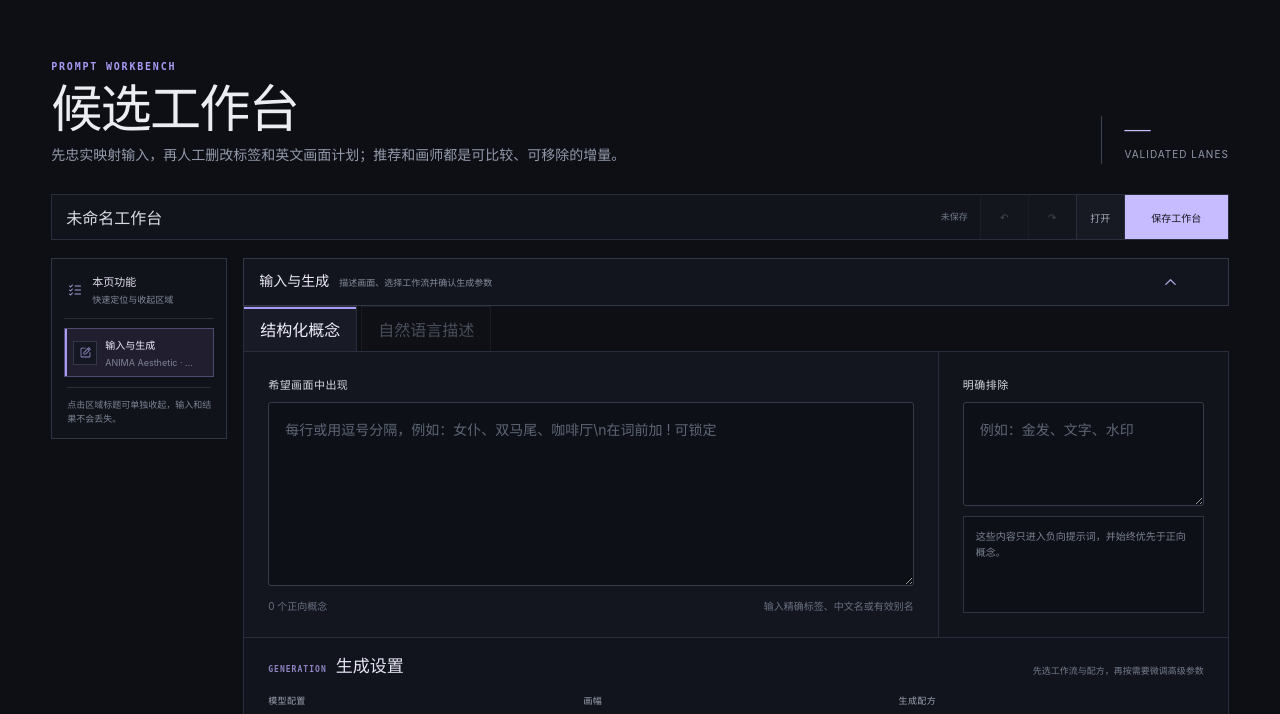
saves and restores a revisioned workspace
The image size is (1280, 714).
Replace the text in the field named "工作台名称" with "女仆测试" at (490, 217), box x1=52 y1=195 x2=929 y2=239
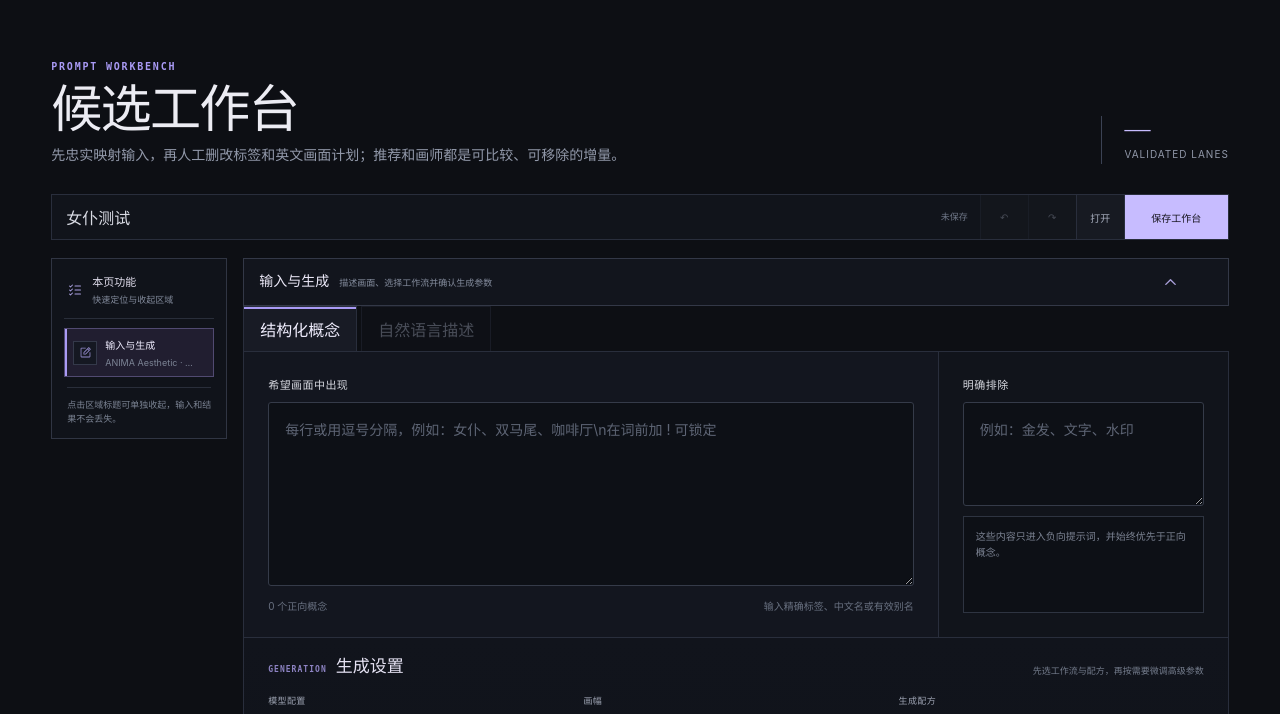
Type "女仆，双马尾" into the text box labelled "希望画面中出现" at (591, 494), box x1=268 y1=402 x2=914 y2=586
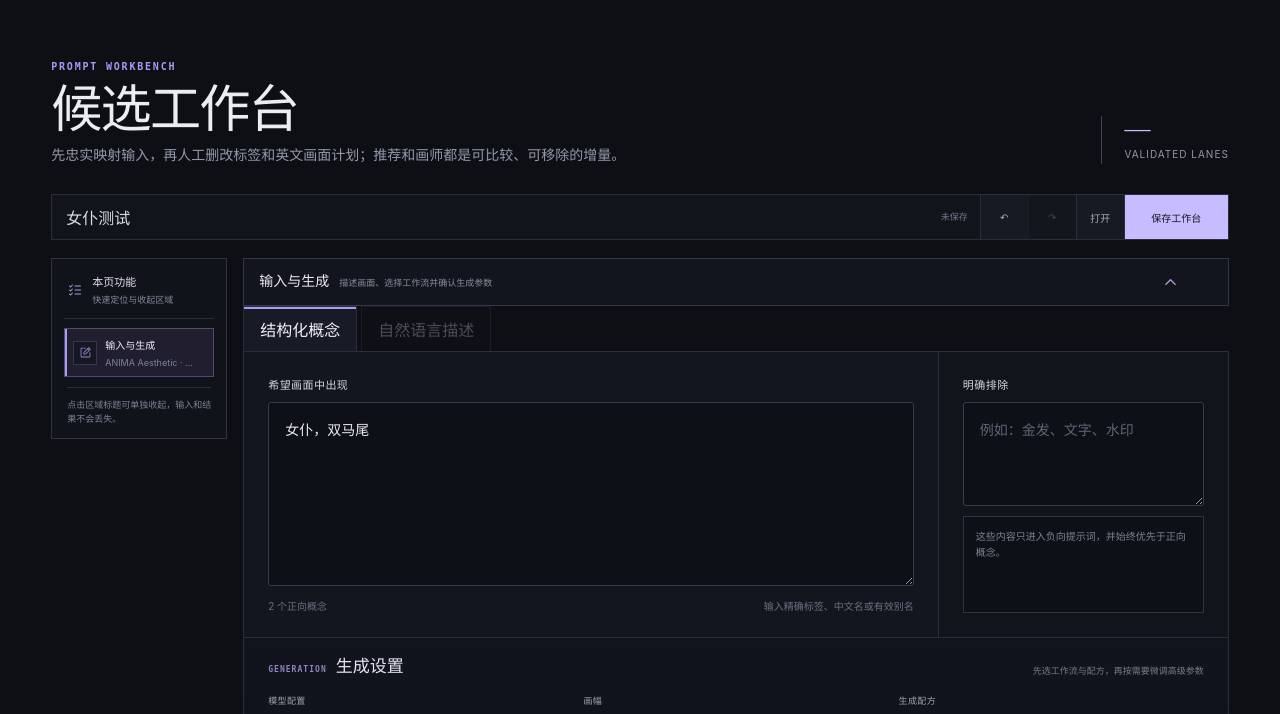
Type "金发" into the text box labelled "明确排除" at (1083, 454), box x1=963 y1=402 x2=1204 y2=506
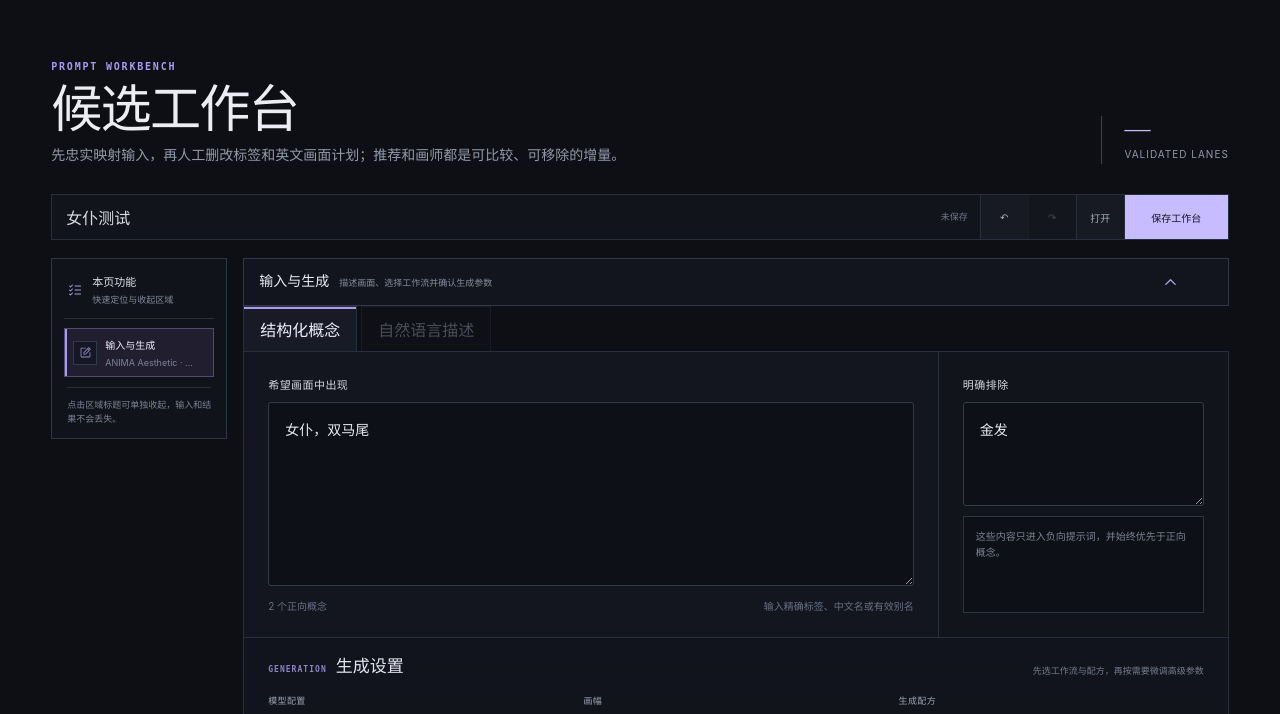
Click the button "保存工作台" at (1176, 217), box x1=1124 y1=195 x2=1228 y2=239
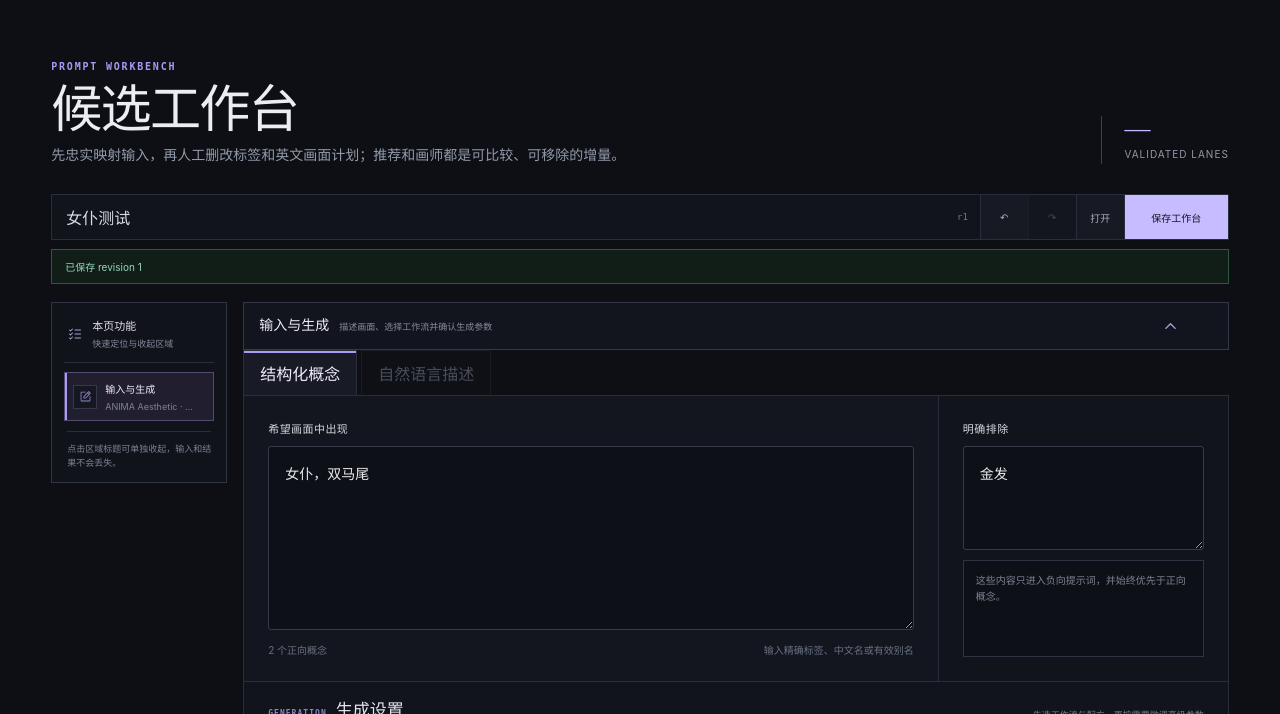
Check: the text "已保存 revision 1" is shown, box x1=51 y1=249 x2=1229 y2=284
Click the button "打开" at (1100, 217), box x1=1076 y1=195 x2=1124 y2=239
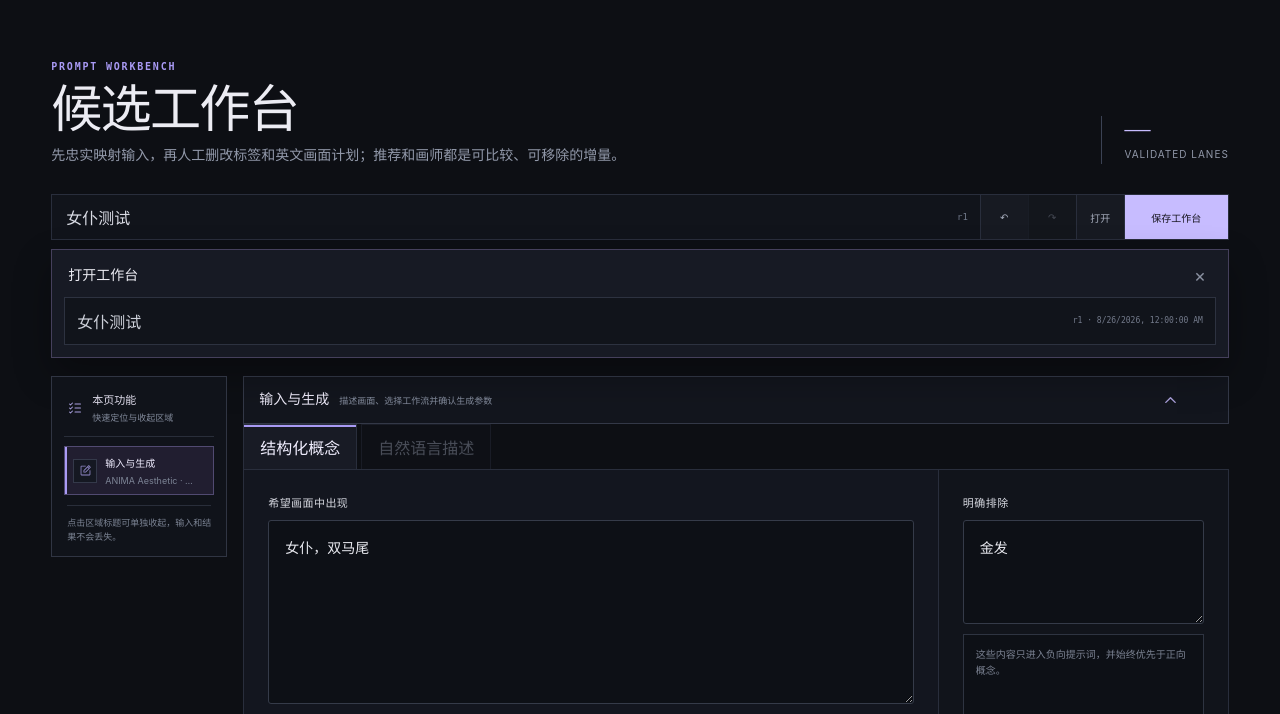
Click the button "女仆测试 r1 · 8/26/2026, 12:00:00 AM" at (109, 322), box x1=64 y1=297 x2=1216 y2=345
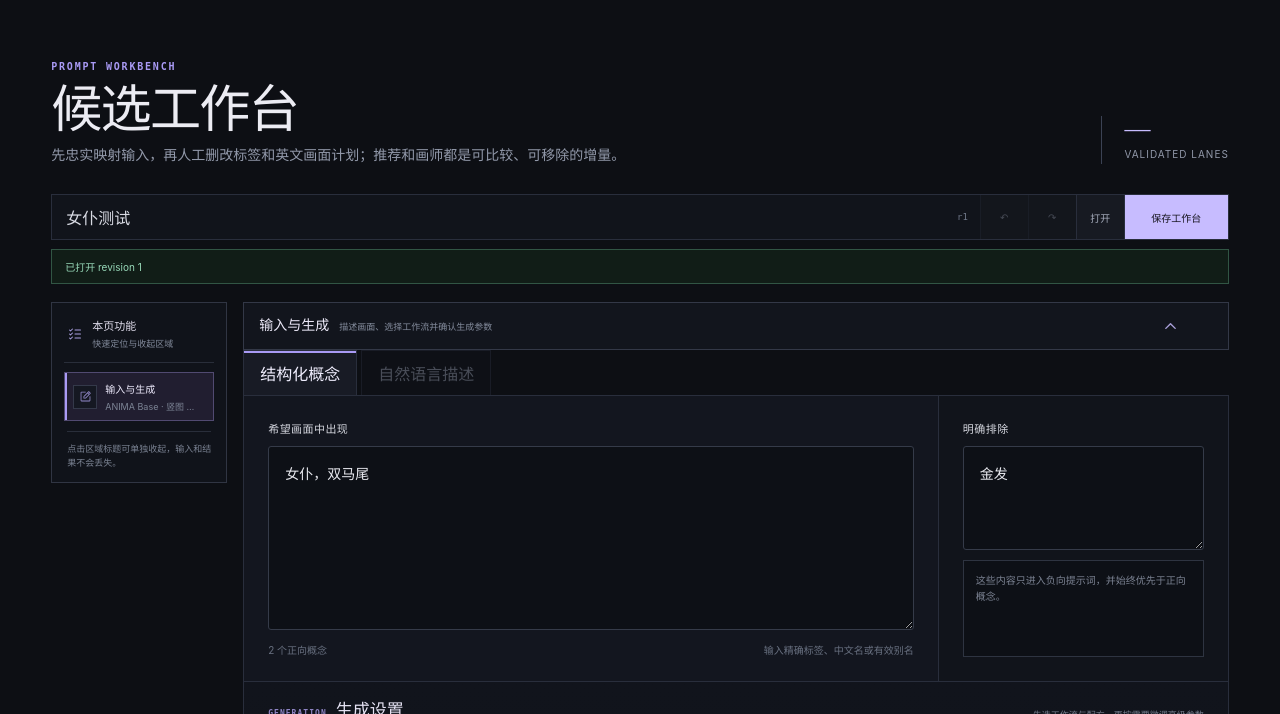
Check: the text "已打开 revision 1" is shown, box x1=51 y1=249 x2=1229 y2=284
